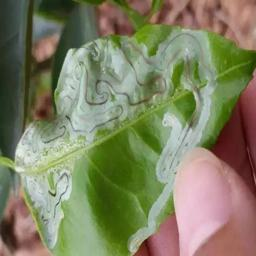liriomyza: (13, 27, 215, 254)
